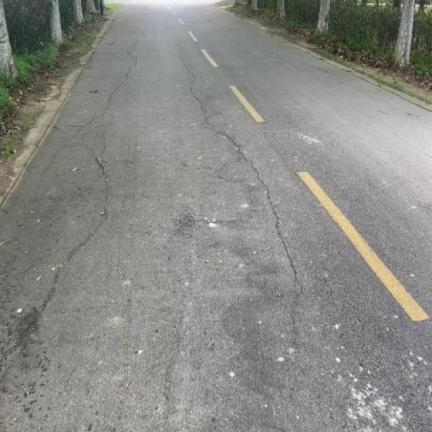Road: (0, 5, 431, 431)
